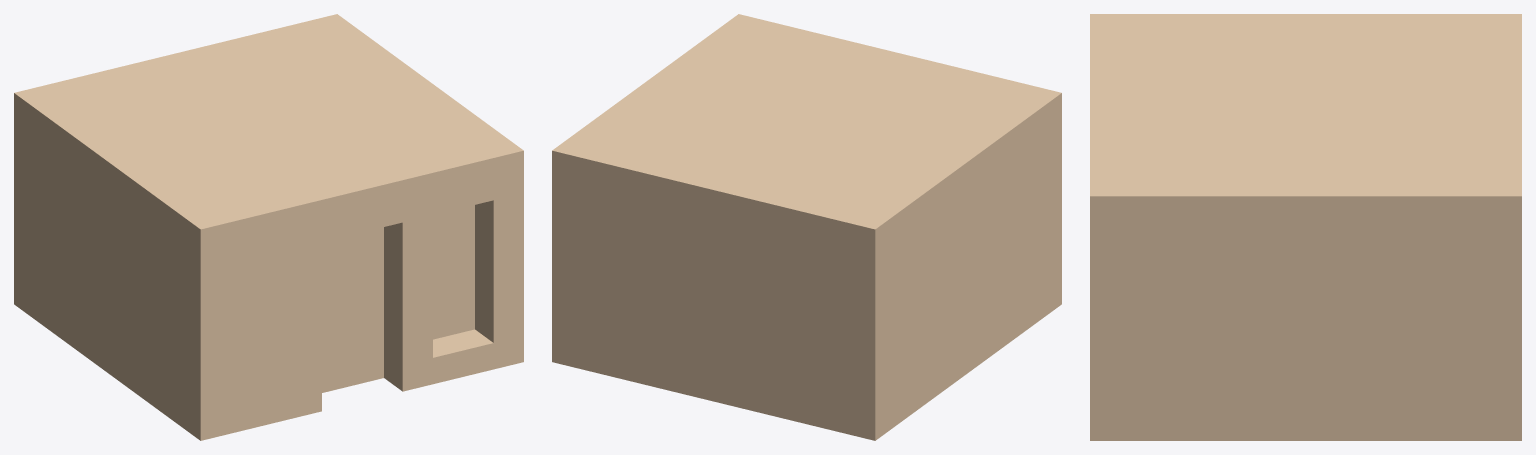
Rendered from building-door-window-narrow.obj.
The picture shows the model from 3 angles, left to right: view 1: azimuth 30°, elevation 25°; view 2: azimuth 150°, elevation 25°; view 3: azimuth 270°, elevation 25°; orthographic projection. The views are drawn at different scales.
Size of the model in its own units: 1 by 0.625 by 1.
